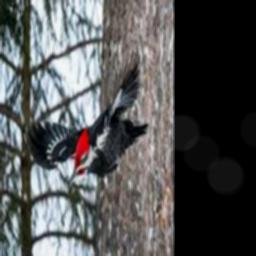Woodpecker: (24, 50, 147, 185)
